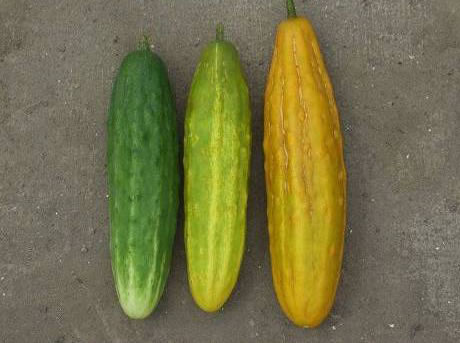cucumber: (101, 34, 182, 323)
